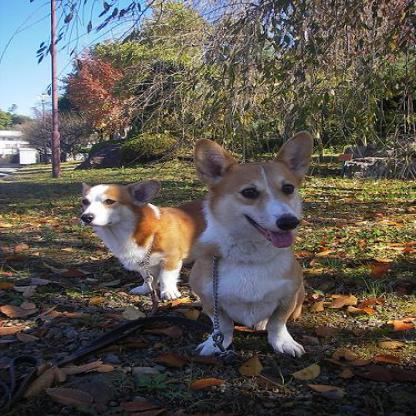Pembroke: (182, 129, 317, 359), (78, 180, 206, 300)
